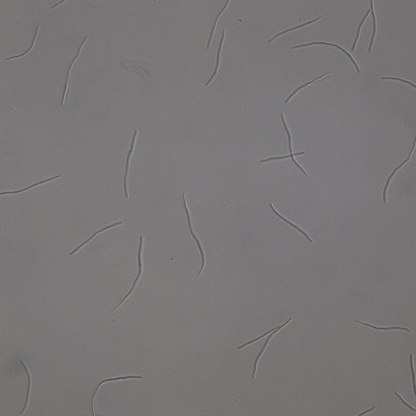Sensitive: (236, 317, 292, 380), (261, 111, 307, 175), (111, 236, 145, 313), (180, 193, 208, 276), (88, 374, 143, 416), (293, 40, 359, 73), (382, 139, 416, 201), (61, 35, 87, 104), (269, 203, 313, 242), (70, 221, 123, 253), (268, 15, 323, 42), (349, 1, 376, 53), (121, 126, 139, 201), (1, 175, 61, 197), (286, 72, 328, 102), (7, 25, 39, 64), (207, 31, 225, 83), (356, 318, 411, 335), (209, 1, 227, 48), (18, 359, 32, 415)
